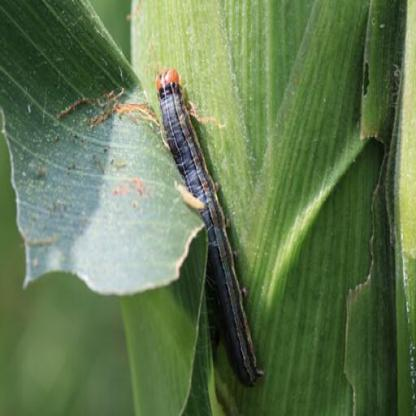armyworm: (144, 55, 279, 399)
